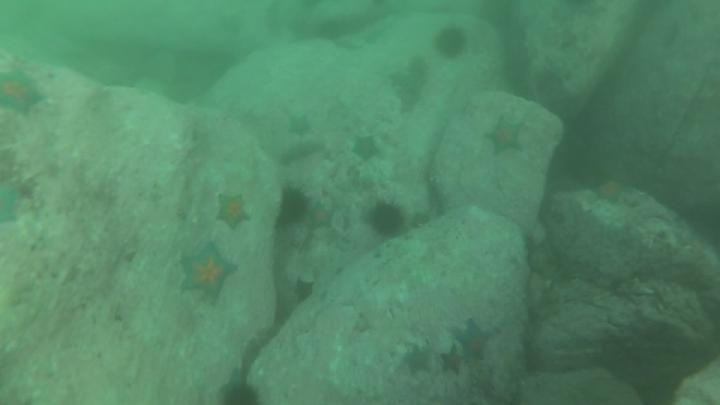echinus: (364, 197, 409, 242), (278, 183, 313, 231), (433, 25, 472, 63), (221, 381, 264, 405)
starfish: (179, 243, 241, 304), (1, 67, 45, 117), (453, 318, 497, 367), (484, 114, 530, 160), (212, 189, 255, 235), (589, 177, 634, 207), (1, 173, 23, 229), (349, 132, 385, 166), (403, 341, 434, 378), (303, 200, 338, 231), (288, 275, 320, 308), (438, 345, 467, 379), (283, 114, 316, 143), (398, 83, 424, 119), (408, 54, 431, 85), (406, 208, 433, 234), (387, 69, 412, 92)
